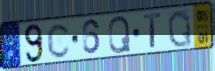6: (81, 18, 102, 57)
9: (22, 22, 45, 64)
C: (46, 22, 72, 60)
Q: (167, 9, 194, 49), (108, 14, 132, 55)
T: (142, 11, 162, 50)
